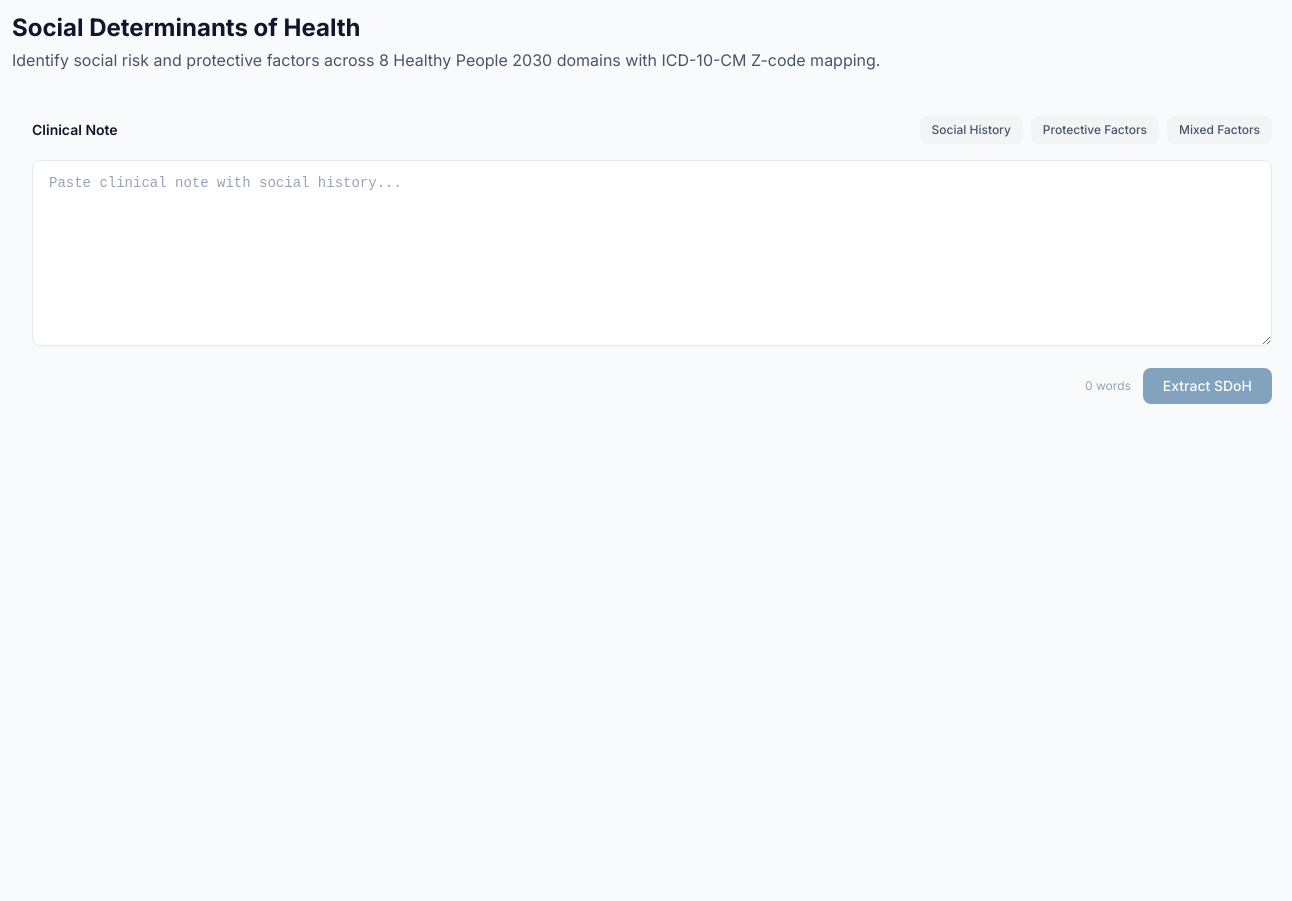
Test: SDoHExtractor — API integration › renders summary cards
Click the button "Social History" at (971, 130), box [920,116,1023,144]
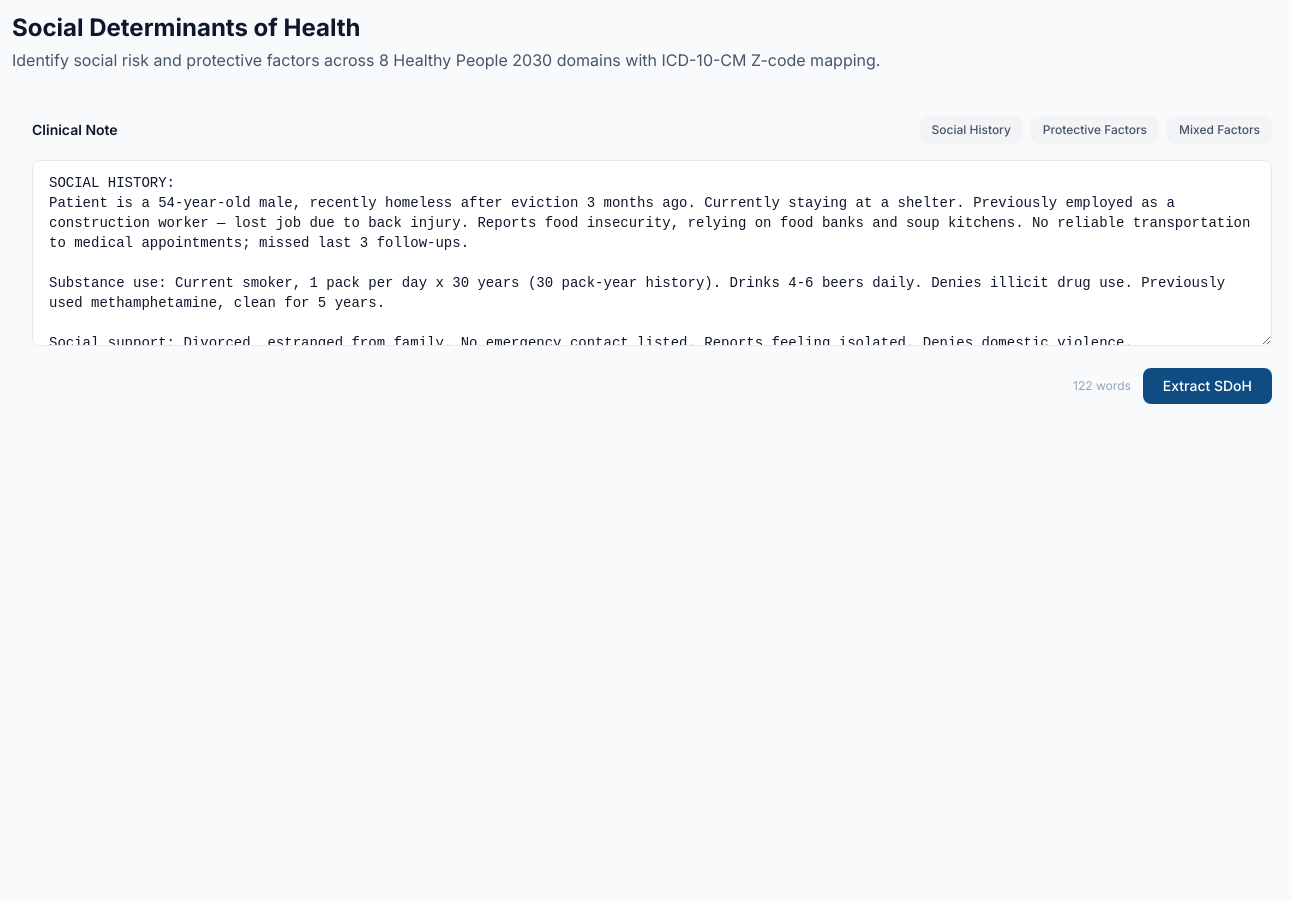
Click the button "Extract SDoH" at (1207, 386), box [1143,368,1272,404]
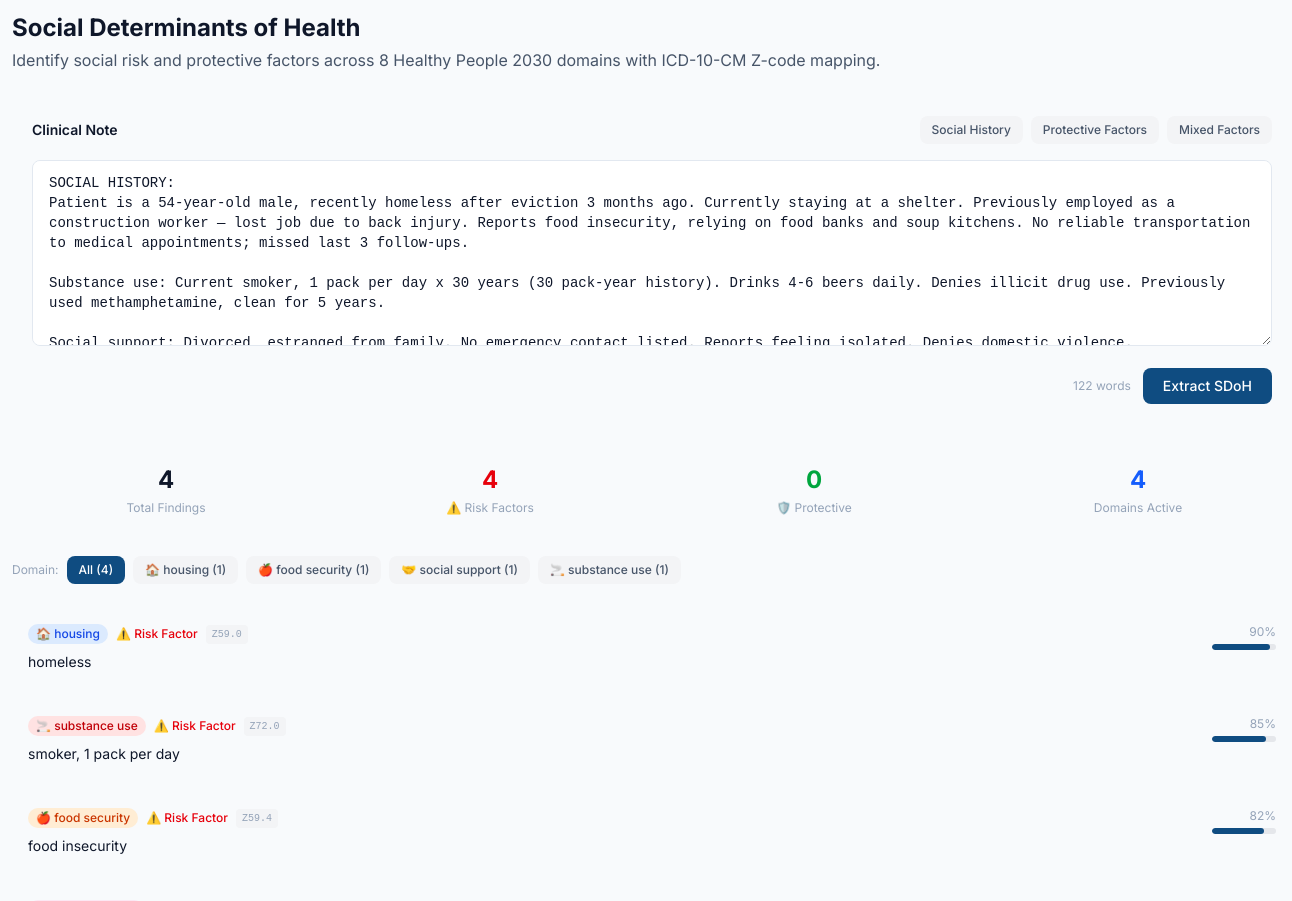
Expected: the text "Total Findings" is shown, [126,500,206,515]
Expected: the text "⚠️ Risk Factors" is shown, [446,500,534,515]
Expected: the text "🛡️ Protective" is shown, [776,500,852,515]
